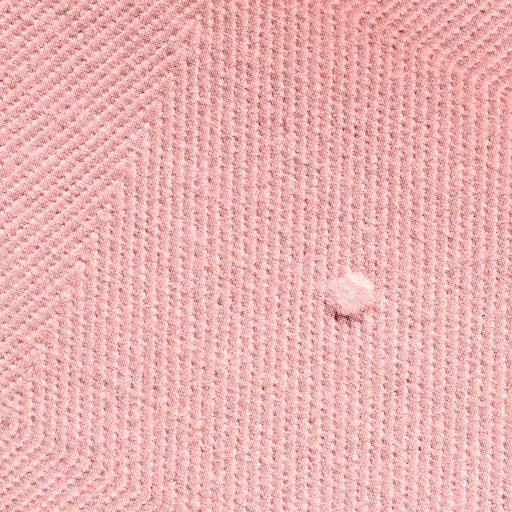knot: (318, 270, 383, 324)
